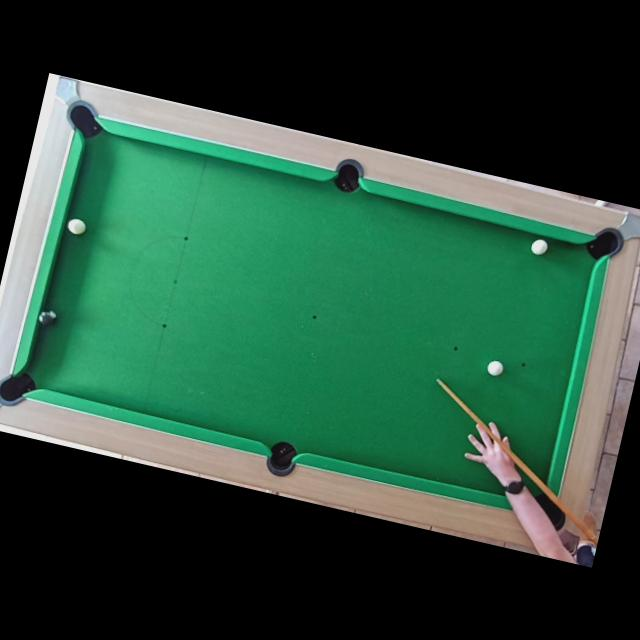Ball: (36, 308, 56, 326), (486, 359, 504, 378), (66, 218, 85, 235), (530, 238, 548, 255)
